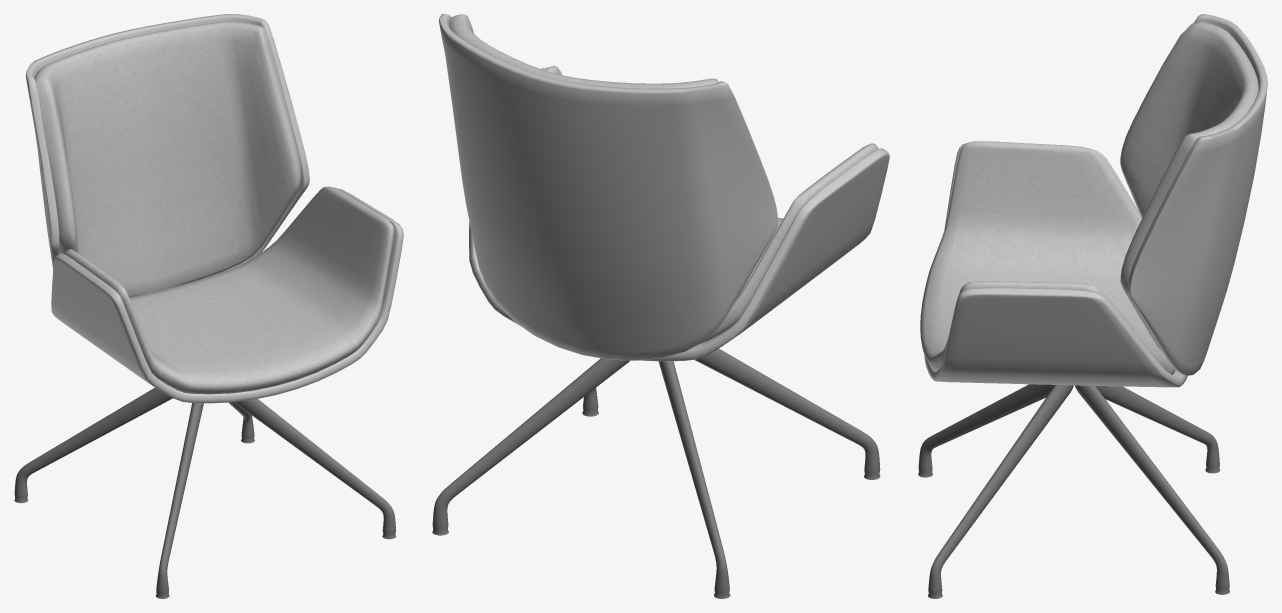
Rendered from presenter_single_chair_white.glb.
3 renders of one model, left to right at view 1: azimuth 30°, elevation 25°; view 2: azimuth 150°, elevation 25°; view 3: azimuth 270°, elevation 25°, orthographic. The views are drawn at different scales.
Parts seen in each view (by area): view 1: chair_07, Group006; view 2: chair_07, Group006; view 3: chair_07, Group006.
Part boxes in pixels (x1,y1,x2,y2): chair_07: [25, 14, 403, 403]; Group006: [14, 387, 396, 598]; chair_07: [439, 14, 889, 361]; Group006: [432, 348, 880, 598]; chair_07: [920, 14, 1267, 387]; Group006: [918, 384, 1229, 598].
Size of the model in its own units: 0.5965 by 0.8362 by 0.5786.
3 materials, 1 textured.
